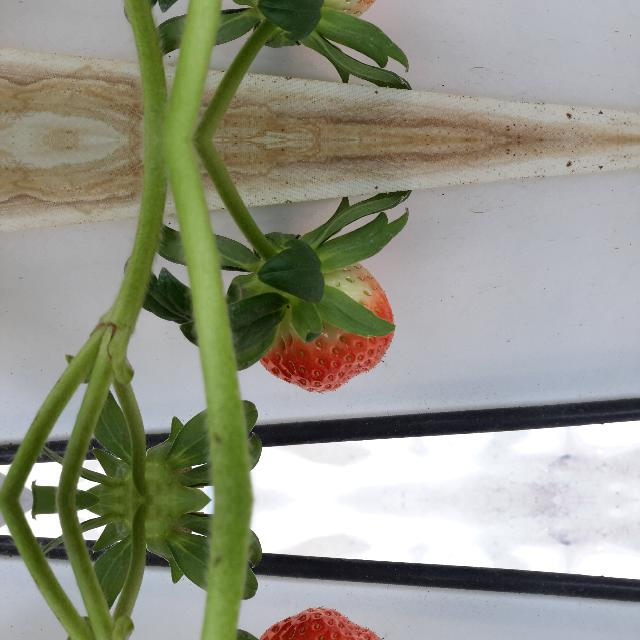Health_100: (258, 262, 394, 392), (258, 607, 393, 640)
